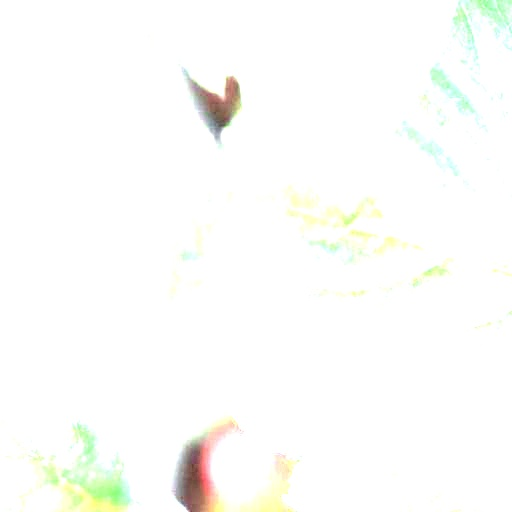Powdery Mildew Leaf: (193, 0, 511, 511), (206, 0, 458, 201), (0, 334, 183, 511)
